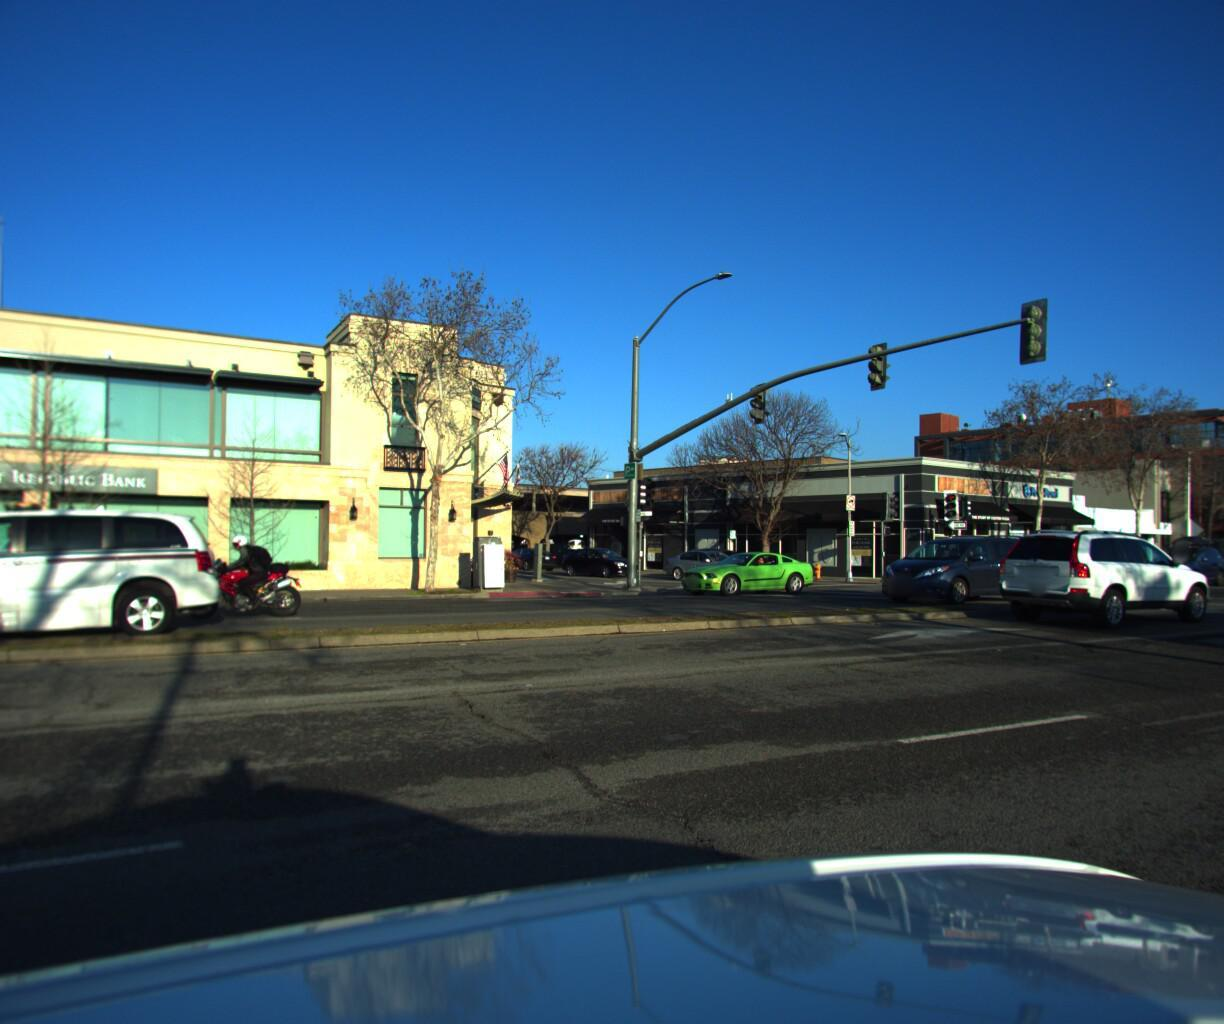car: (0, 487, 221, 660), (975, 519, 1224, 635), (866, 518, 1047, 600), (669, 541, 821, 597), (1131, 534, 1224, 585), (657, 544, 764, 581), (554, 542, 645, 575)
motorcycle: (186, 530, 307, 620)
